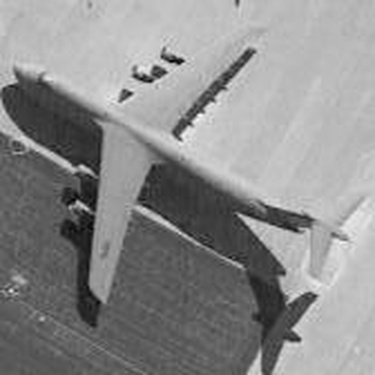airplane: (5, 13, 373, 360)
